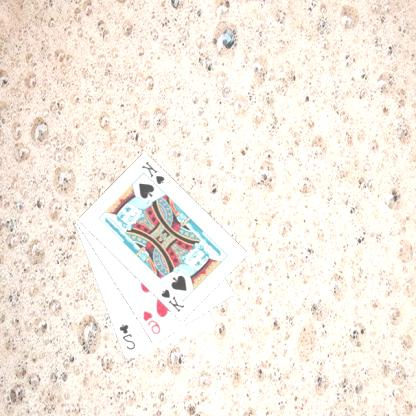2C: (118, 321, 139, 351)
9H: (142, 308, 164, 336)
KS: (140, 159, 168, 192), (160, 286, 188, 314)
